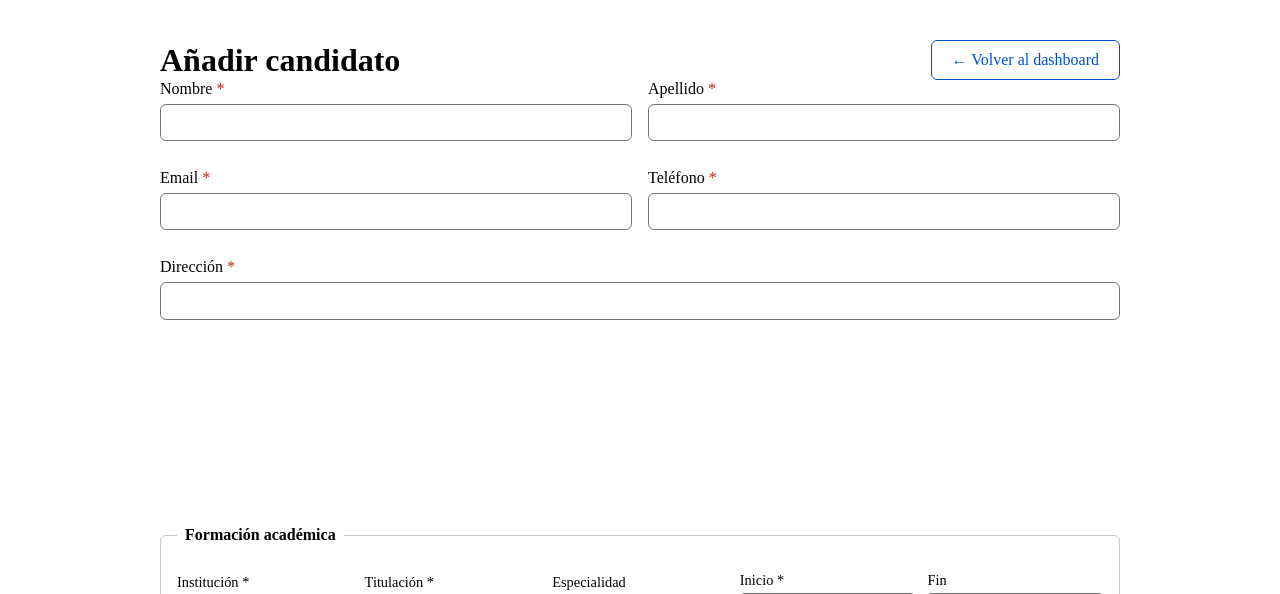
Test: AddCandidatePage › shows invalid email error and clears it after correction
In the field labelled "Email *": (396, 212) [160,193,632,230], type "not-an-email"
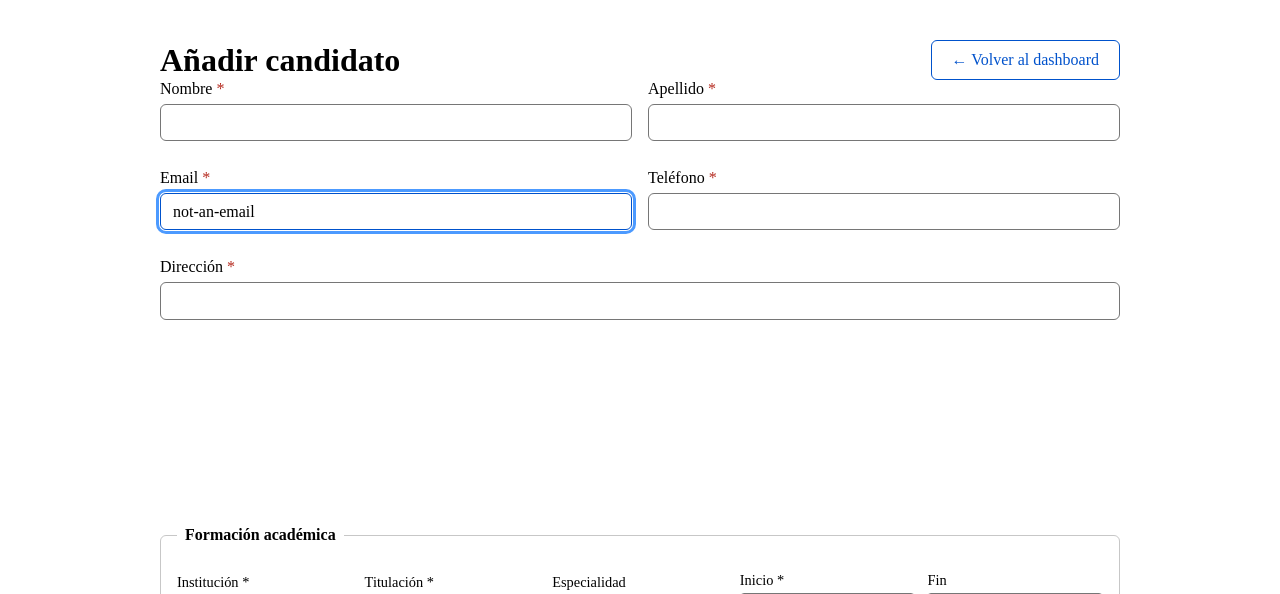
Press Tab
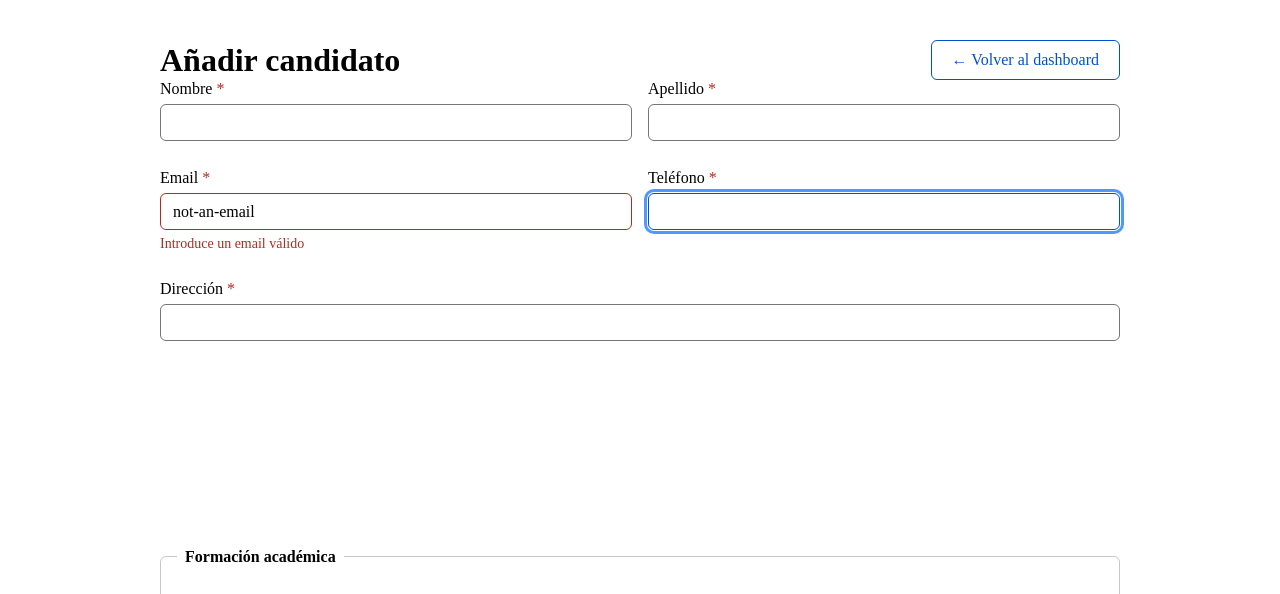
Expected: the text "Introduce un email válido" is shown, [160,236,304,251]
Replace the text in the field labelled "Email *" with "valid@example.com": (396, 212) [160,193,632,230]
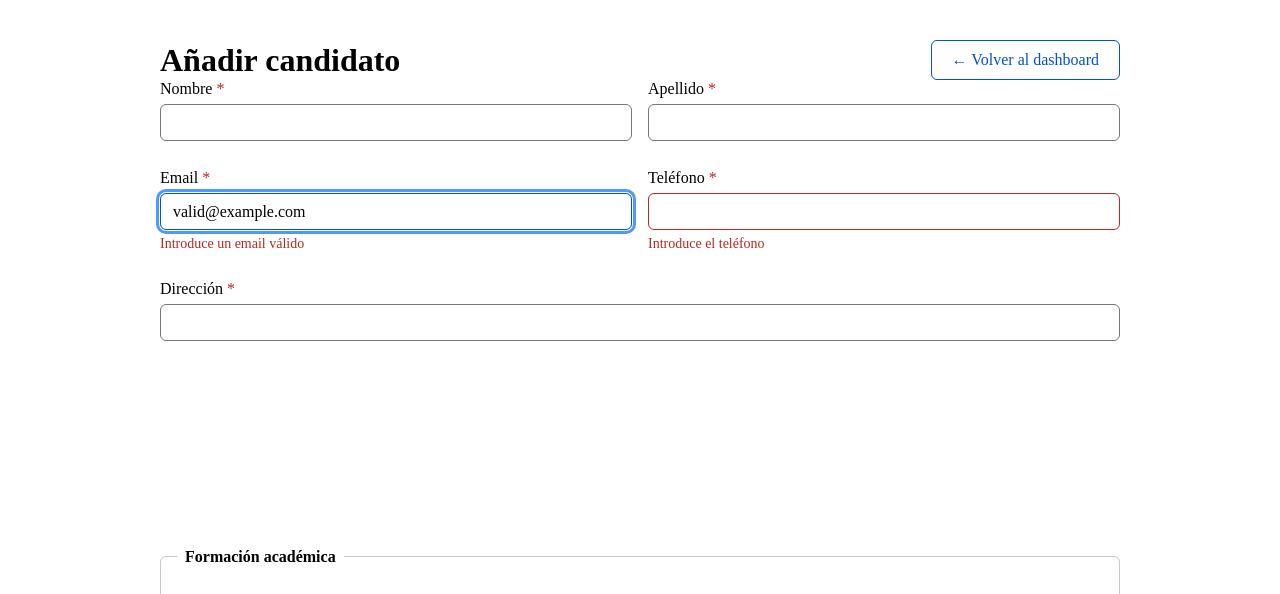
Press Tab
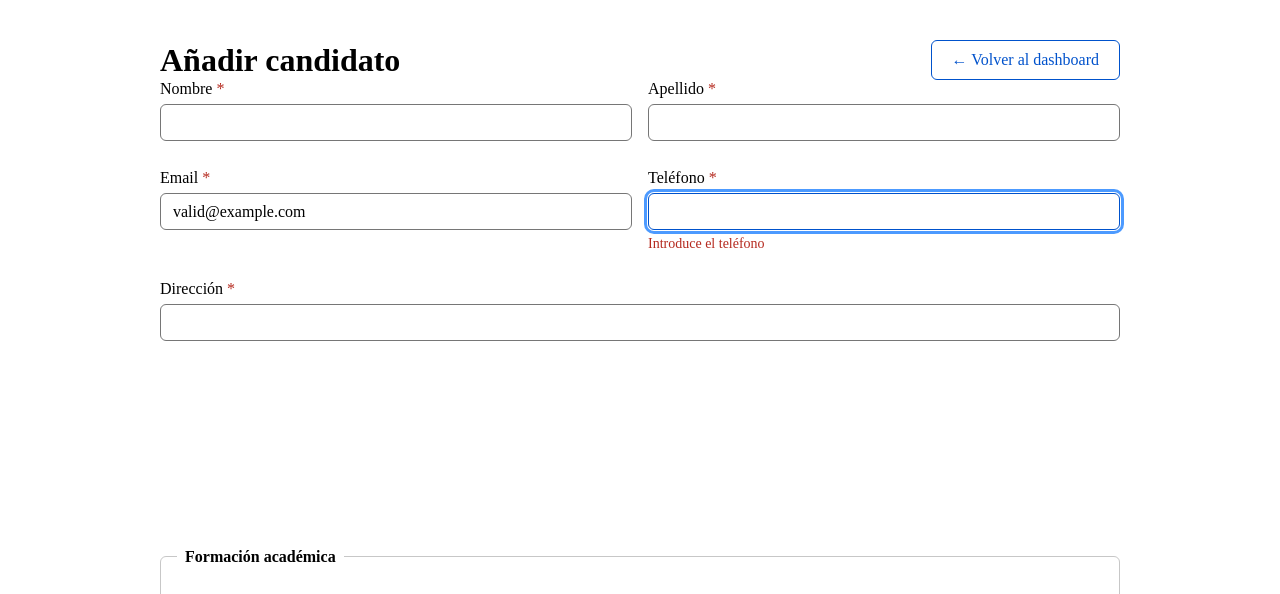
Expected: the text "Introduce un email válido" is gone
